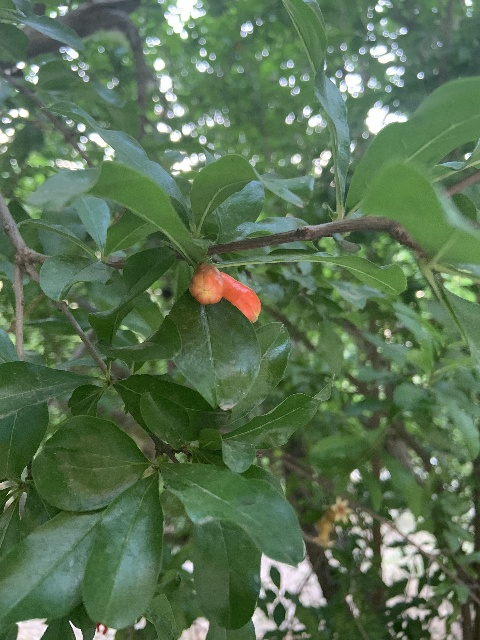bud: (218, 271, 260, 322), (188, 263, 223, 304)
early-fruit: (309, 514, 336, 546), (324, 495, 353, 523)
